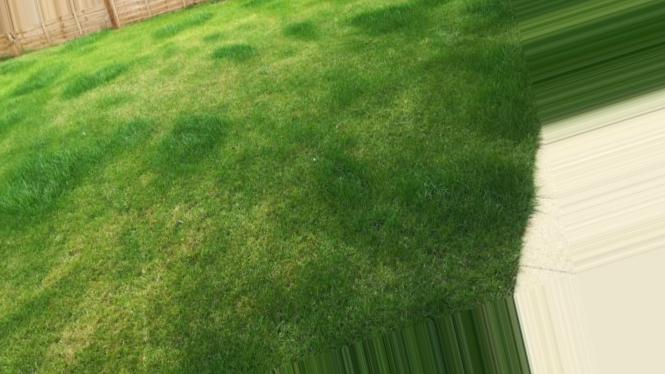patch: (66, 224, 133, 343), (129, 27, 227, 99), (176, 211, 210, 259)
